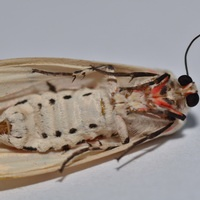insect: (0, 58, 197, 199)
